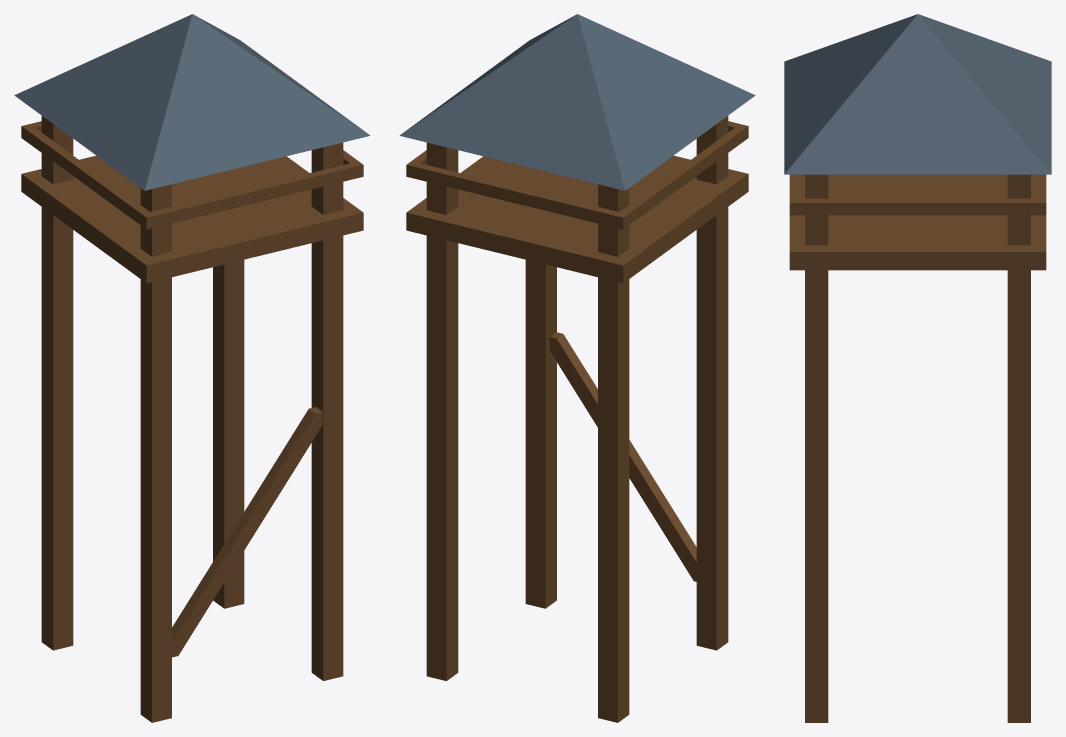
File: lookout.glb
3 views of the same model, side by side, from view 1: azimuth 30°, elevation 25°; view 2: azimuth 150°, elevation 25°; view 3: azimuth 270°, elevation 25° (orthographic). The views are drawn at different scales.
Parts seen in each view (by area): view 1: lookout; view 2: lookout; view 3: lookout.
Part boxes in pixels (left/top/right/bottom): lookout: left=14, top=14, right=370, bottom=722; lookout: left=399, top=14, right=755, bottom=722; lookout: left=784, top=14, right=1051, bottom=722.
Bounding box in the file's own units: 0.792 × 2.16 × 0.792.
